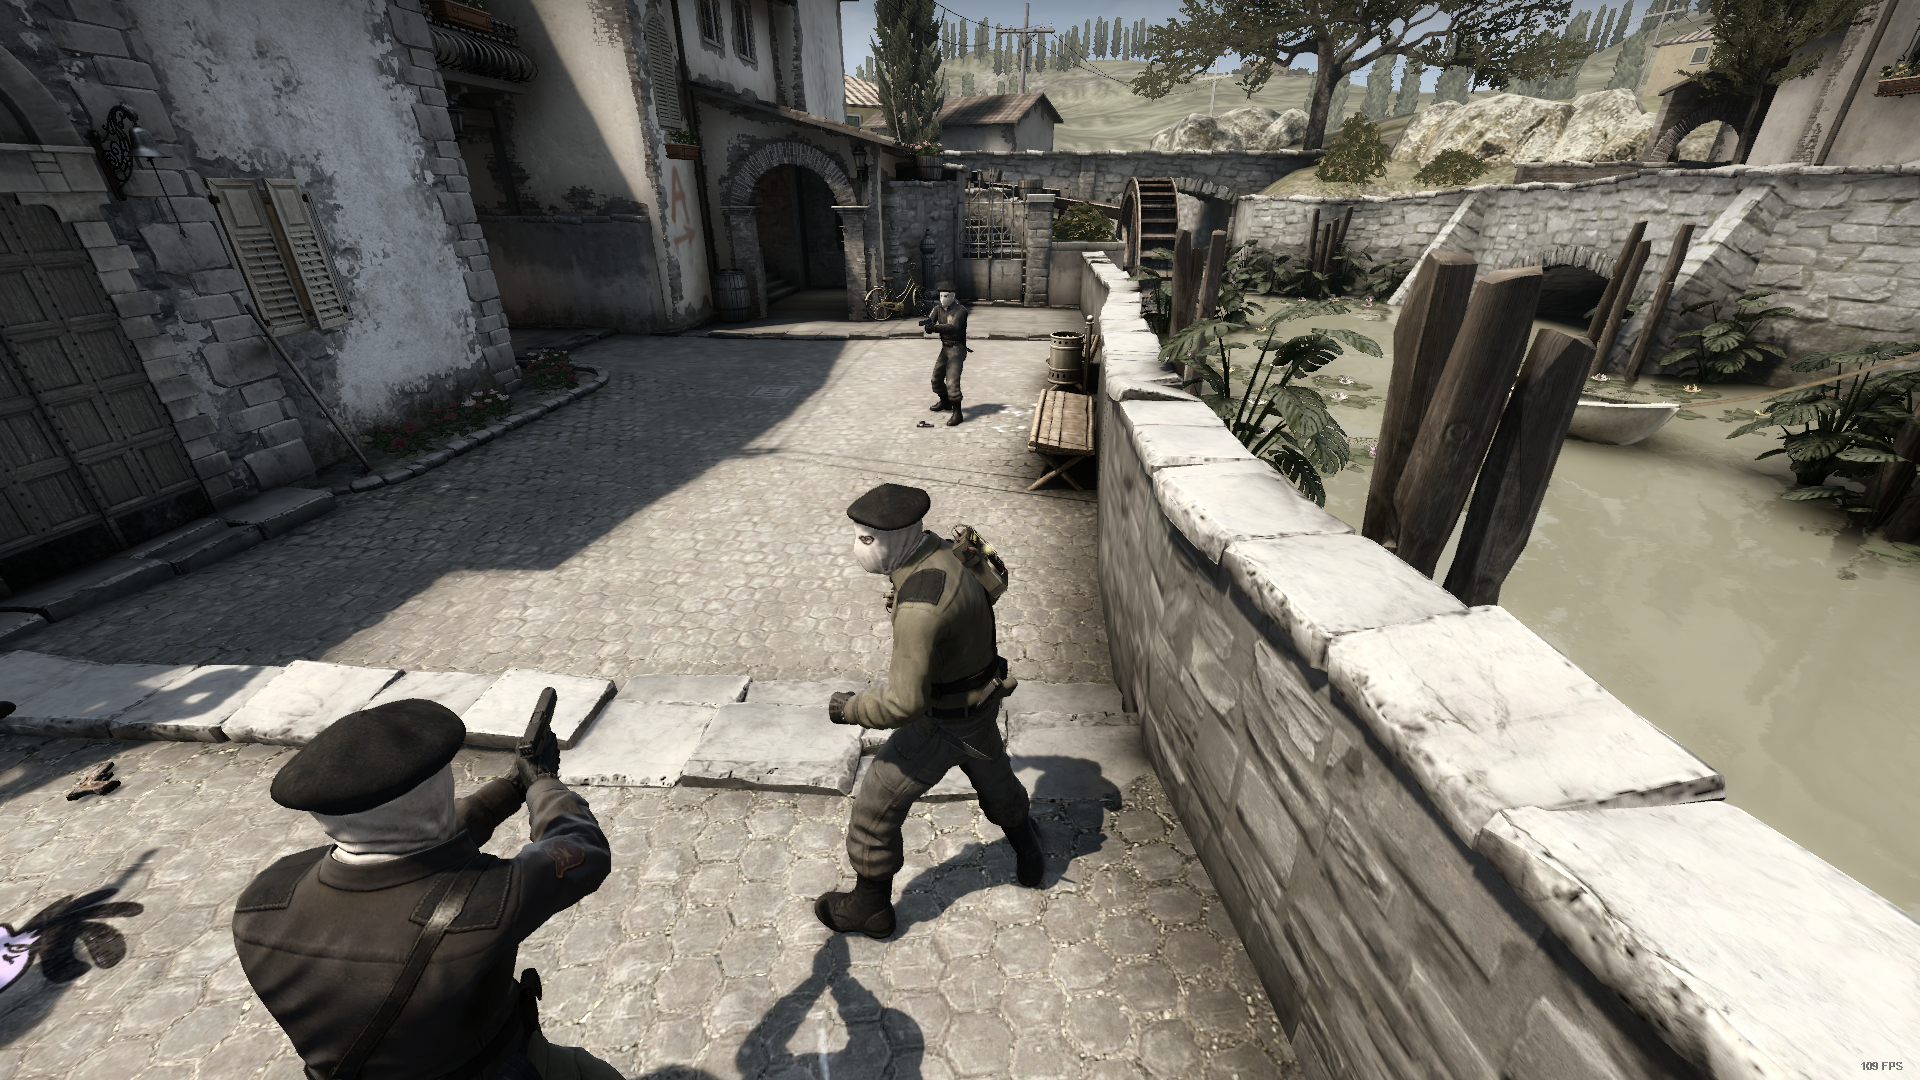t: (232, 699, 618, 1080), (815, 485, 1048, 938), (927, 284, 969, 427)
